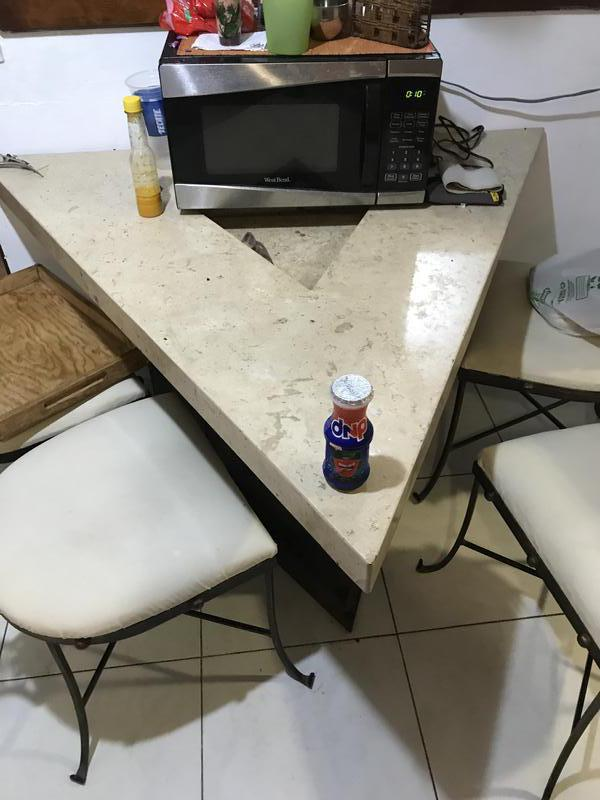danup: (324, 375, 372, 497)
